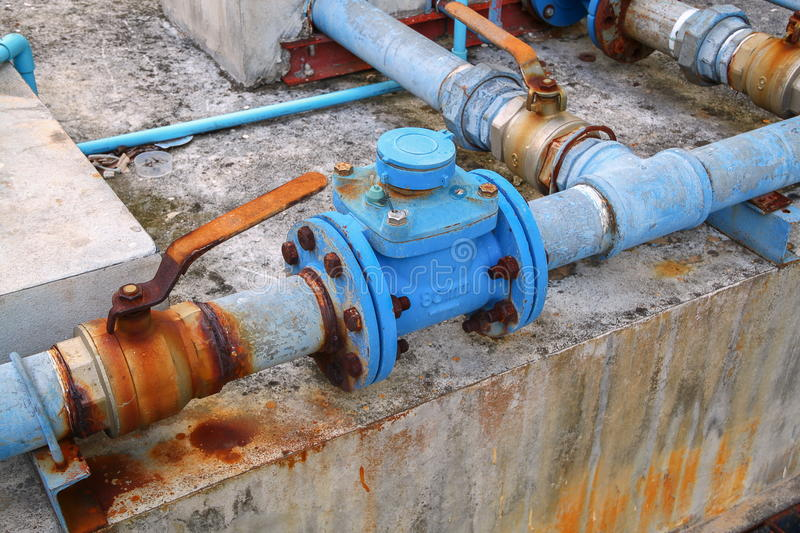Low: (449, 2, 597, 181), (725, 18, 797, 119)
Moderate: (42, 293, 256, 510), (109, 150, 330, 316), (269, 229, 372, 391), (463, 257, 525, 333), (388, 287, 416, 362)
